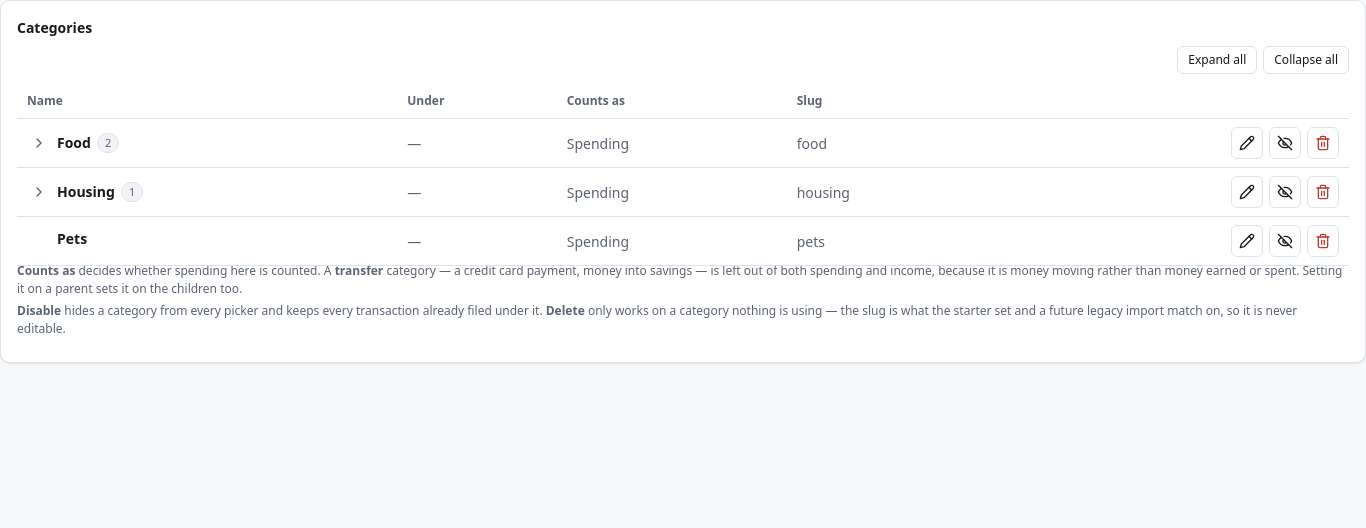
CategoriesPanel accordions › expands and collapses everything at once
Click the button "Expand all": (1217, 60) [1177, 46, 1257, 74]
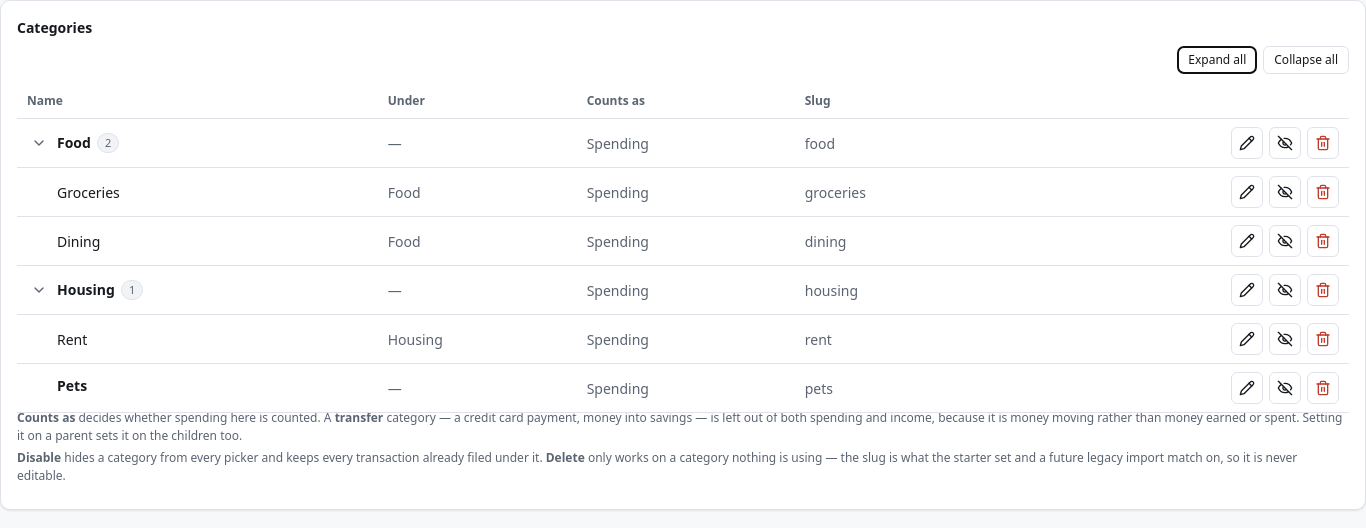
Now the text "Groceries" is shown, box [57, 182, 120, 202]
Now the text "Rent" is shown, box [57, 330, 87, 348]
Click the button "Collapse all": (1306, 60) [1263, 46, 1349, 74]
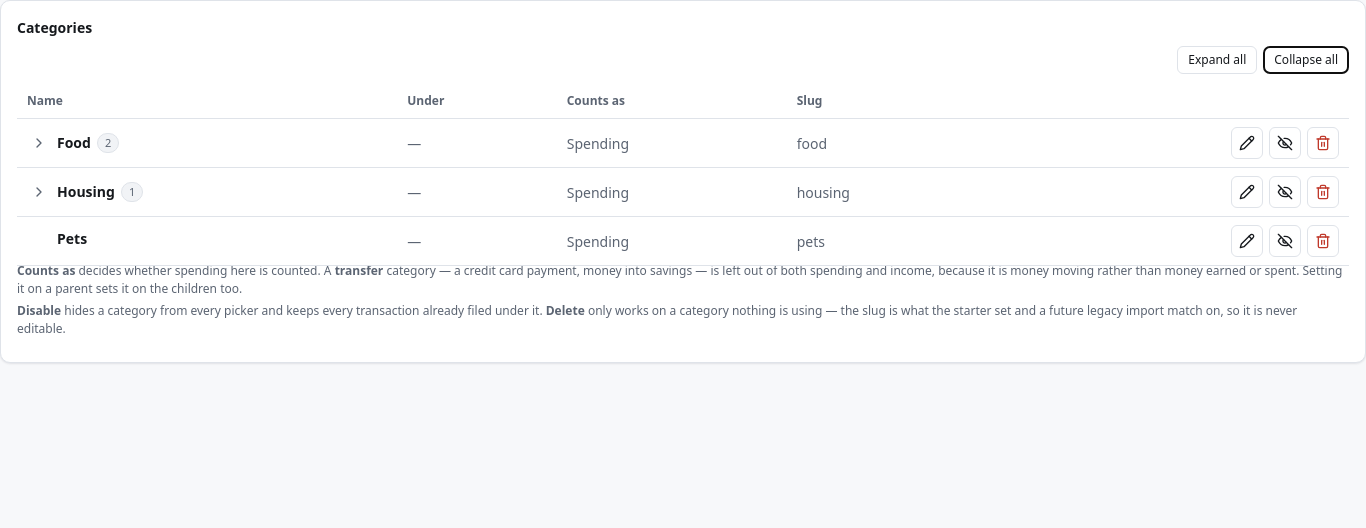
Expected: the text "Rent" is not shown
Now the text "Groceries" is gone
